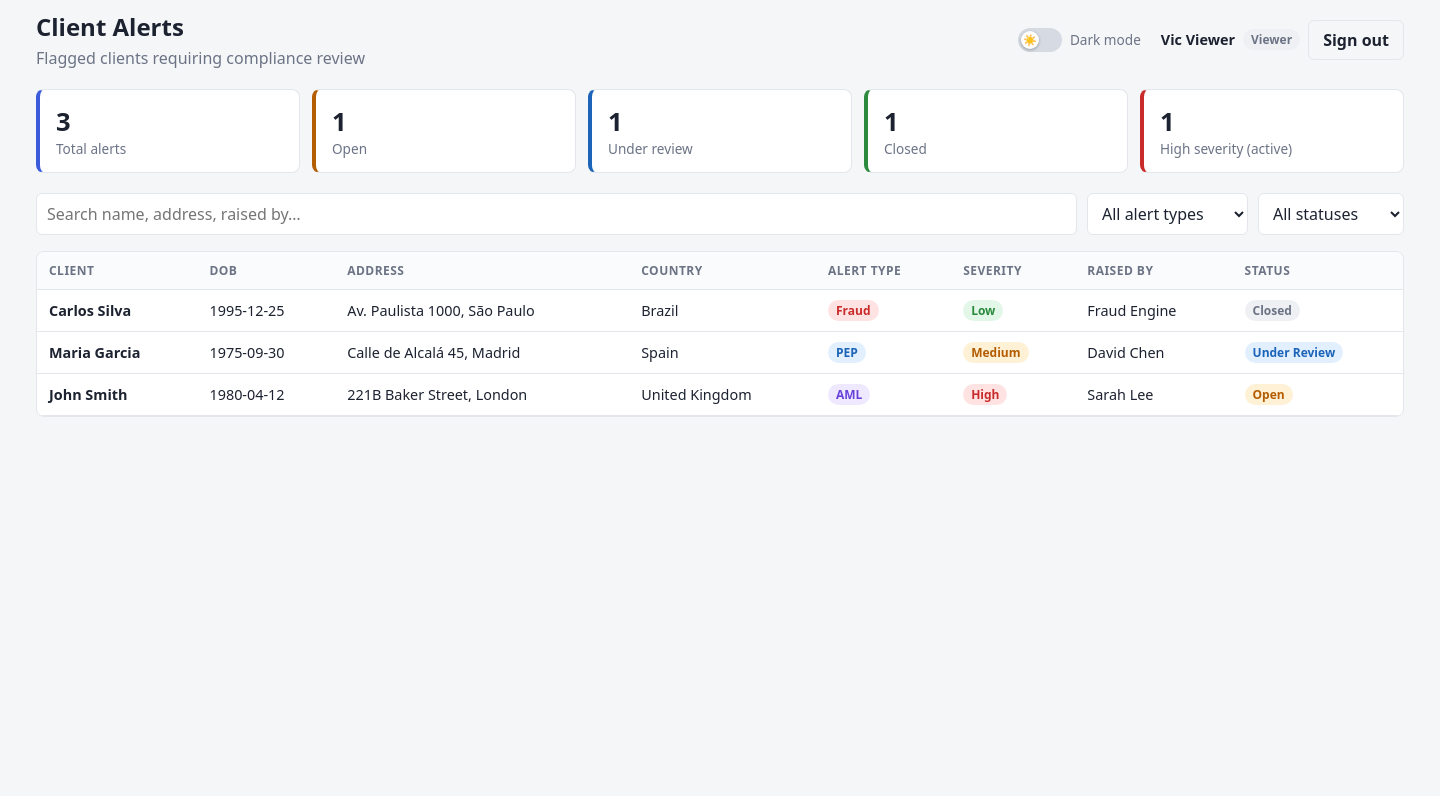
alert history timeline › shows an empty state for alerts with no recorded changes
The width and height of the screenshot is (1440, 796).
Expected: the text "John Smith" is shown, x1=37 y1=374 x2=197 y2=416
Step 1. Click the text "Maria Garcia" → (117, 352), box x1=37 y1=332 x2=197 y2=374
(page scrolled)
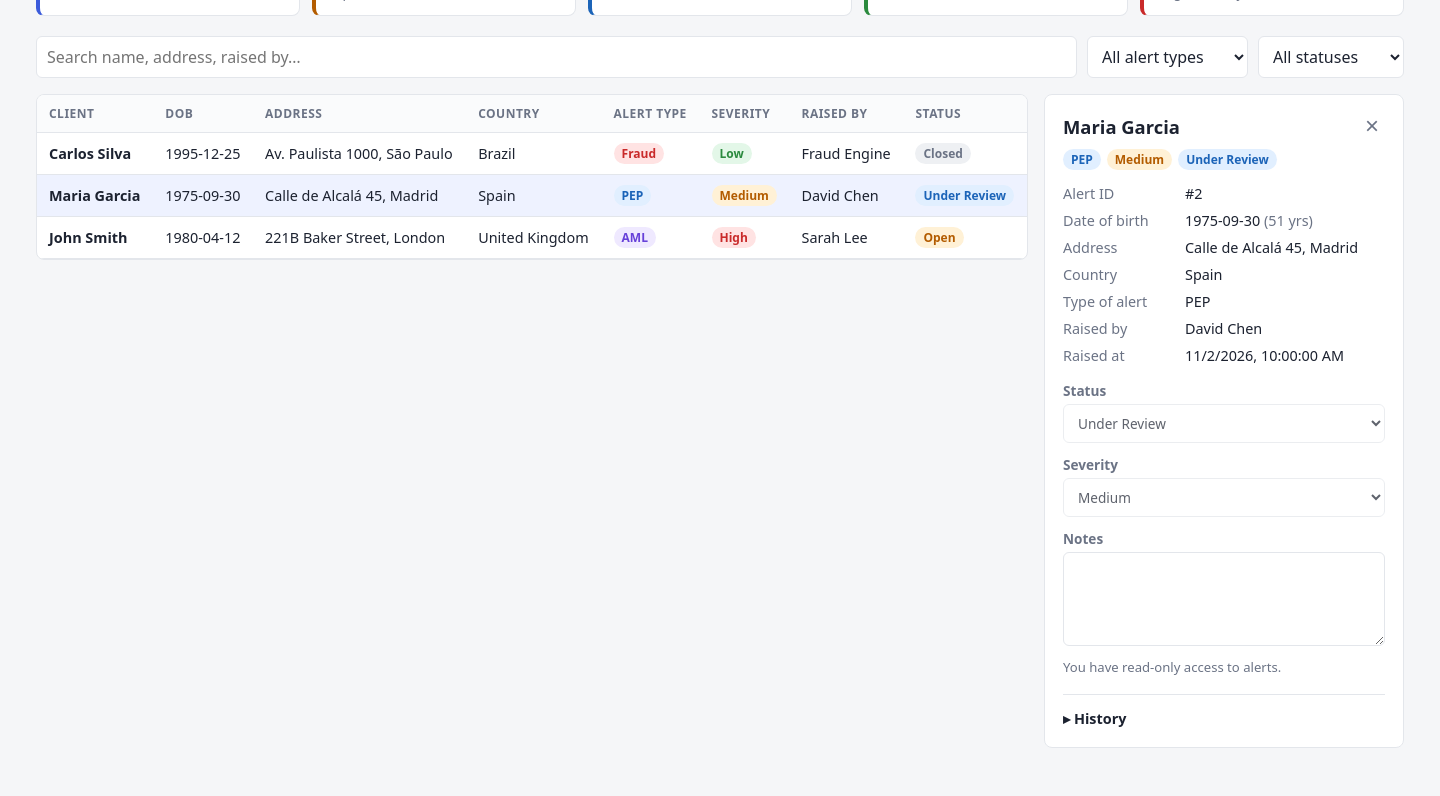
Step 2. Click the button "▸ History" → (1095, 718), box x1=1063 y1=709 x2=1126 y2=728
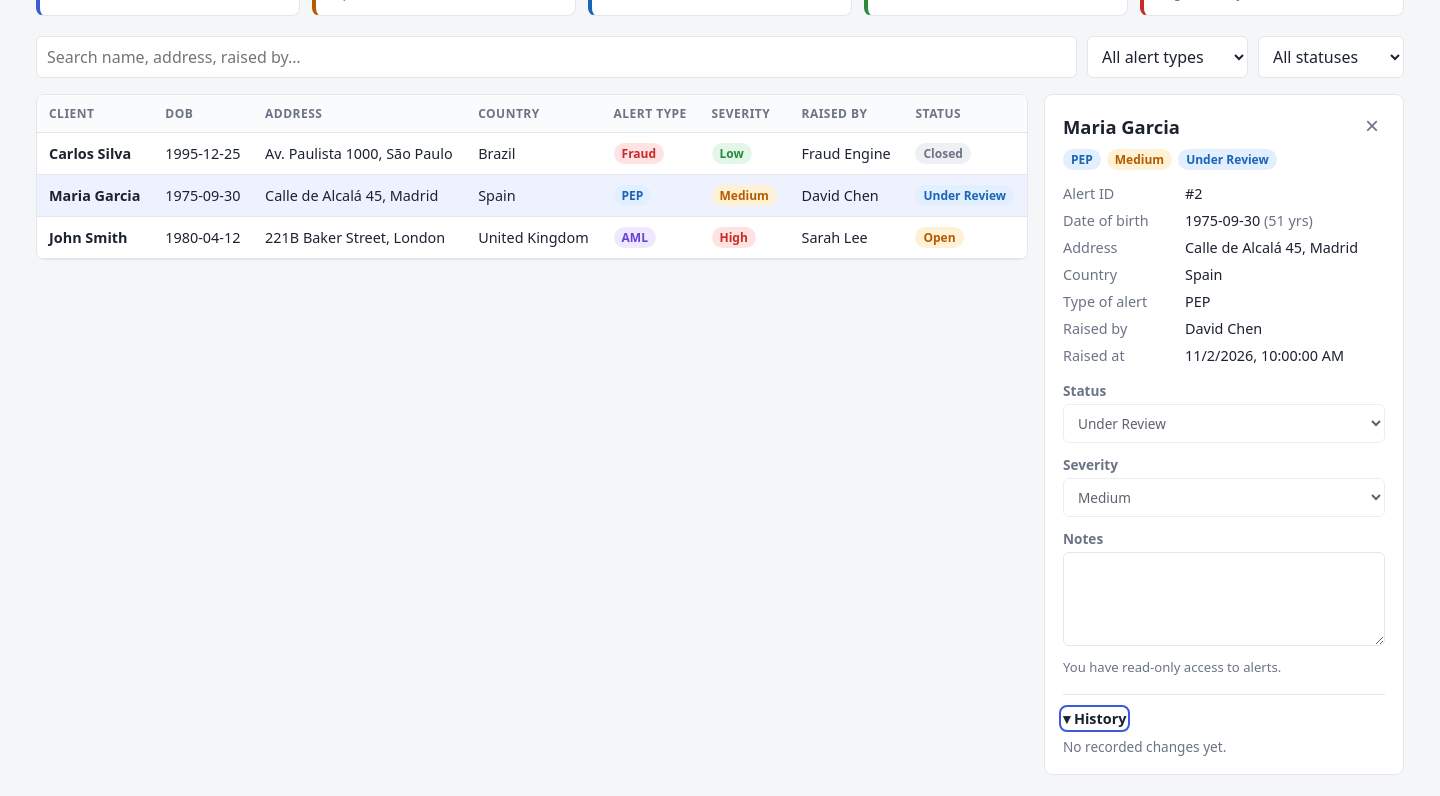
Result: the text "No recorded changes yet." is shown at x1=1063 y1=737 x2=1226 y2=756
